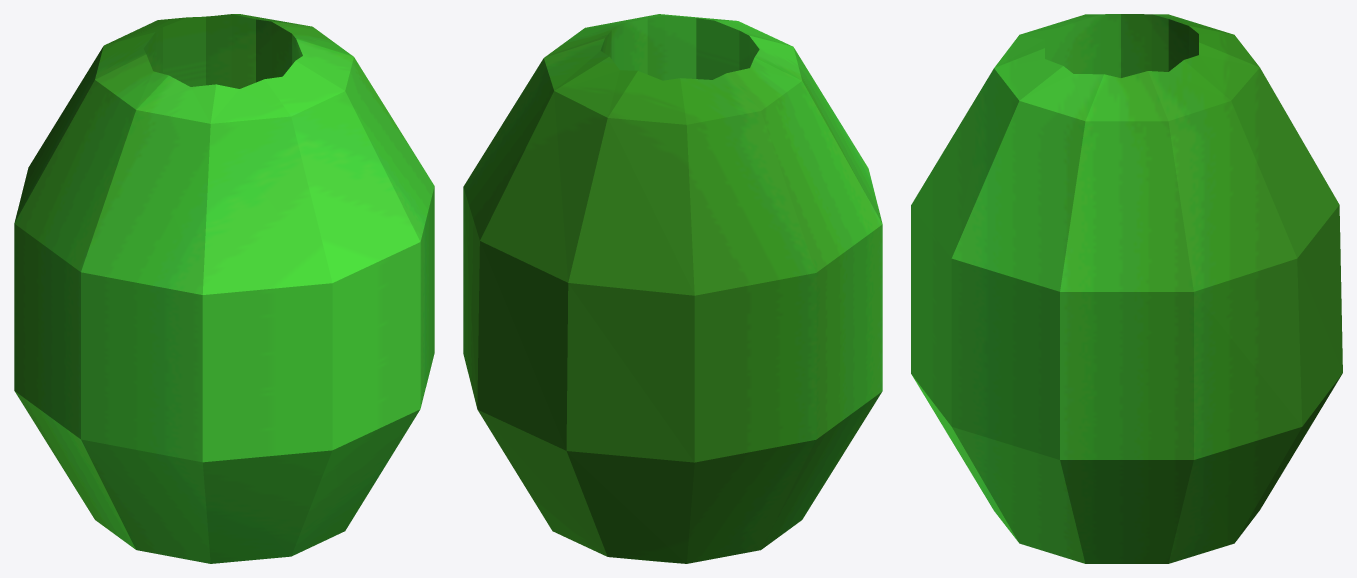
Rendered from InvBead.glb.
3 renders of one model, left to right at view 1: azimuth 30°, elevation 25°; view 2: azimuth 150°, elevation 25°; view 3: azimuth 270°, elevation 25°, orthographic.
Visible parts, largest first — view 1: InvBead; view 2: InvBead; view 3: InvBead.
Boxes of the visible parts, bbox=[...] form: InvBead: bbox=[14, 14, 434, 563]; InvBead: bbox=[463, 14, 882, 563]; InvBead: bbox=[911, 14, 1342, 563].
Bounding box in the file's own units: 13.12 × 17.37 × 13.79.
Materials: 1 (1 with a texture image).
